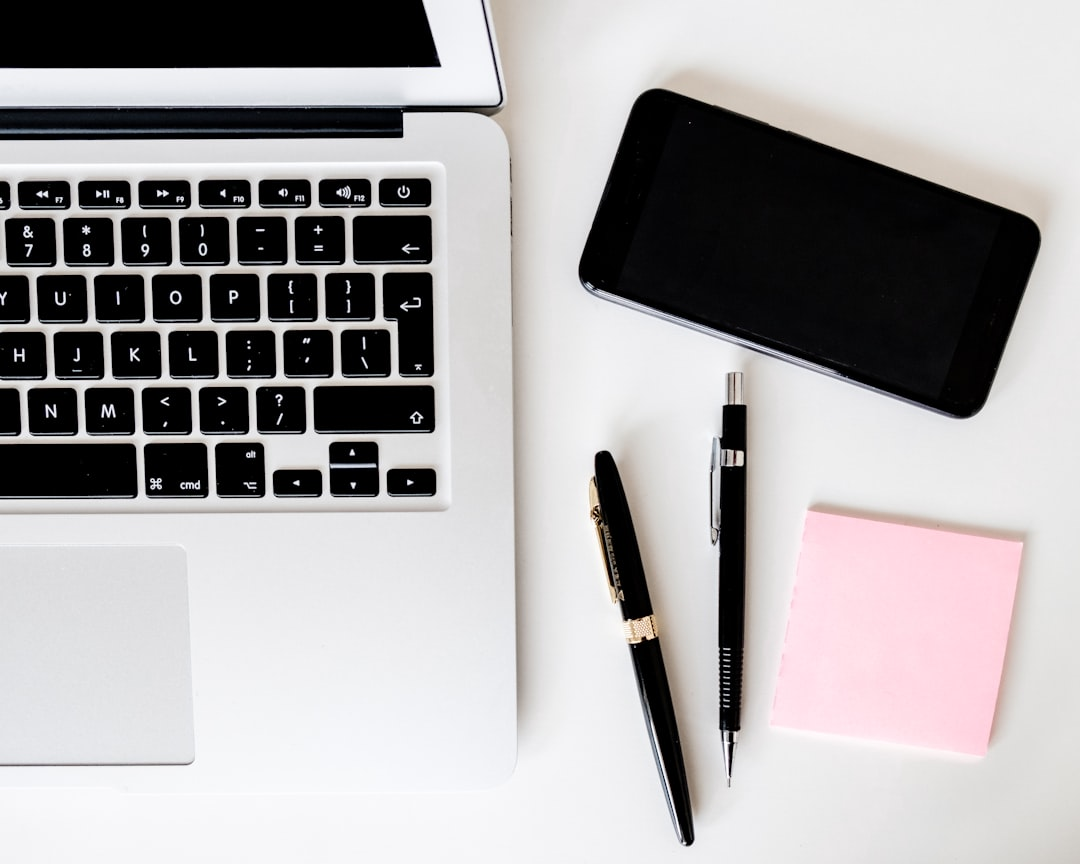phone: (571, 82, 1049, 418)
